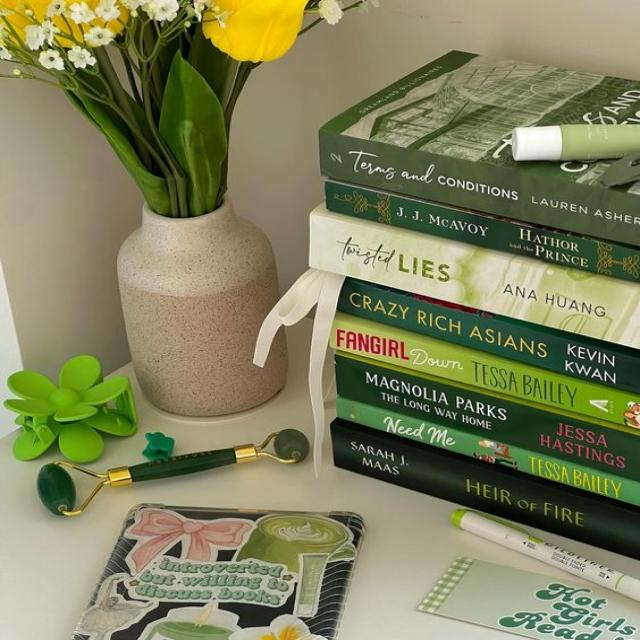book: (310, 204, 639, 348), (330, 418, 639, 560), (336, 356, 639, 481), (319, 130, 640, 245), (329, 313, 639, 431), (339, 277, 639, 393), (336, 396, 640, 507), (326, 179, 639, 281)
flowers: (0, 0, 308, 415)
